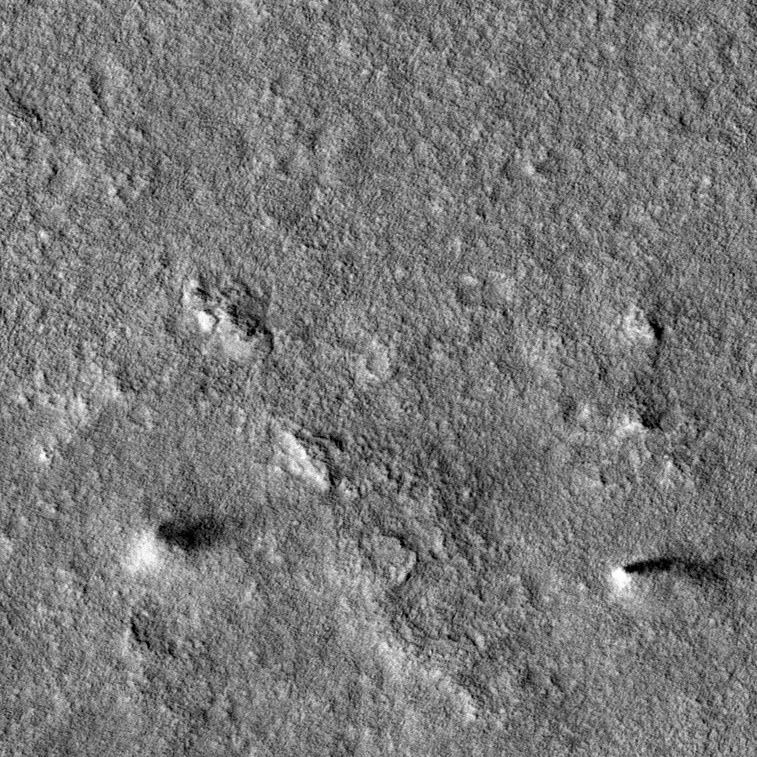dust_devil: (118, 511, 236, 576), (606, 549, 733, 593)
